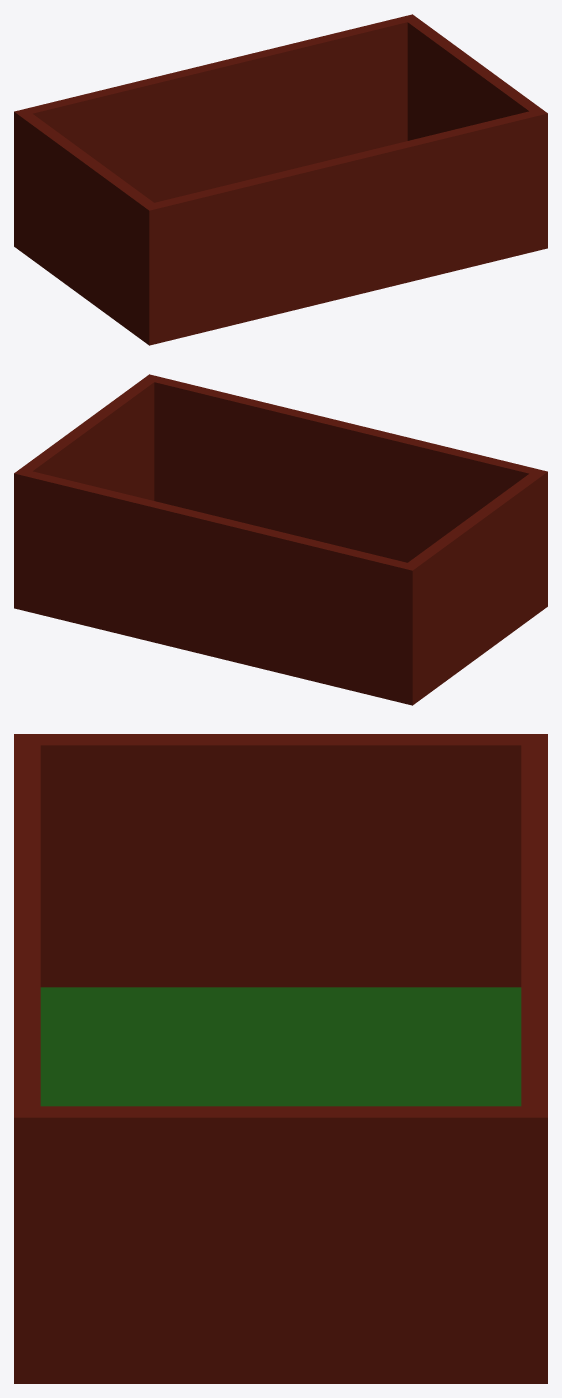
The model's file is Box_Room.fbx.
3 renders of one model, top to bottom at view 1: azimuth 30°, elevation 25°; view 2: azimuth 150°, elevation 25°; view 3: azimuth 270°, elevation 25°, orthographic. The views are drawn at different scales.
Parts seen in each view (by area): view 1: Box_Room; view 2: Box_Room; view 3: Box_Room, Ground.
Boxes of the visible parts, x1,y1,x2,y2 form: Box_Room: [14, 14, 547, 345]; Box_Room: [14, 374, 547, 705]; Box_Room: [14, 734, 547, 1383]; Ground: [40, 987, 521, 1106].
Size of the model in its own units: 170 by 55 by 100.
